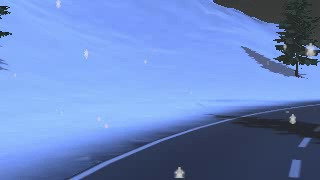Lane: (75, 104, 319, 179)
